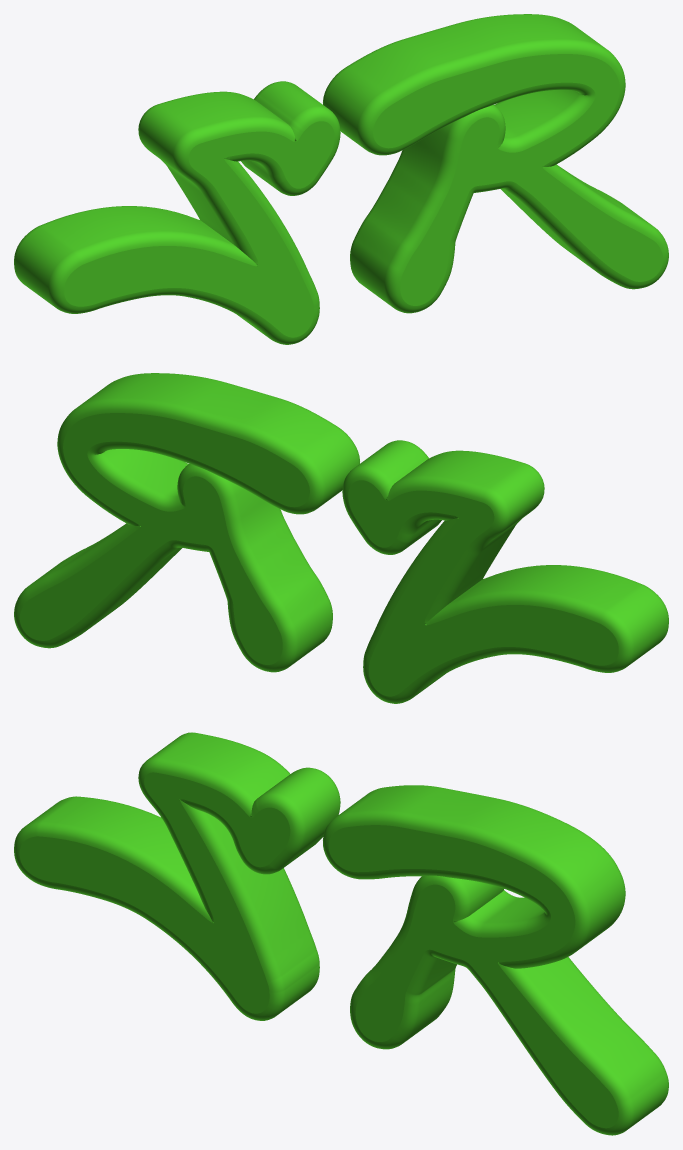
The picture shows the model from 3 angles, top to bottom: view 1: azimuth 30°, elevation 25°; view 2: azimuth 150°, elevation 25°; view 3: azimuth 330°, elevation 25°; orthographic projection.
Visible parts, largest first — view 1: Text; view 2: Text; view 3: Text.
Boxes of the visible parts, bbox=[...] form: Text: bbox=[14, 14, 668, 344]; Text: bbox=[14, 373, 668, 703]; Text: bbox=[14, 732, 668, 1135].
Size of the model in its own units: 2.17 by 0.9201 by 0.27.
